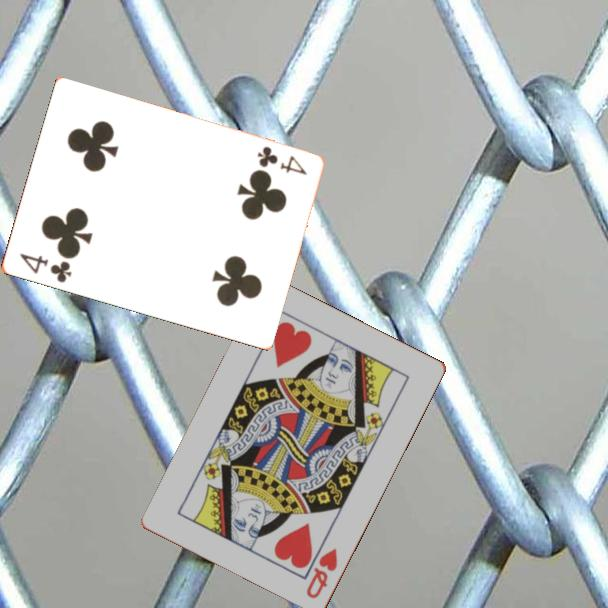c04: (16, 250, 74, 286), (253, 143, 310, 178)
h12: (303, 545, 340, 602)
